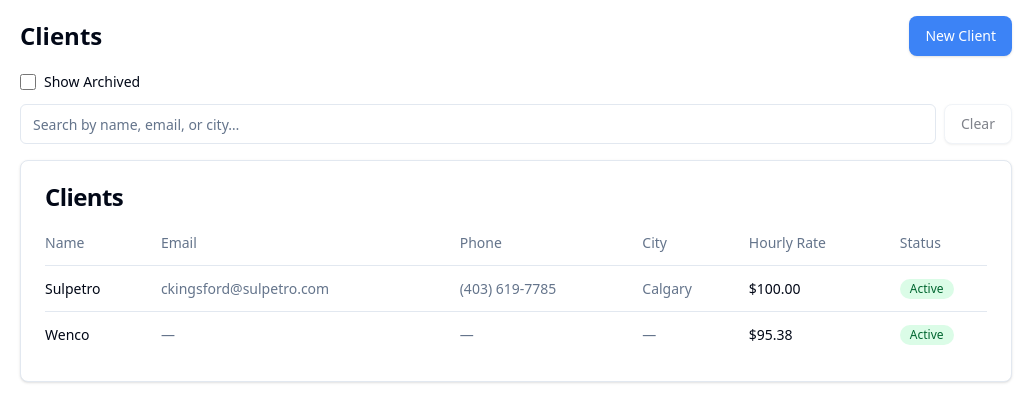
Test: Clients › shows an empty state when no clients match the search
Check: the text "Sulpetro" is shown, box 45,266 -> 161,312
Type "zzznomatchwhatever" into the field with placeholder "Search by name, email, or city…" at x=478, y=124, box 20,104 -> 936,144
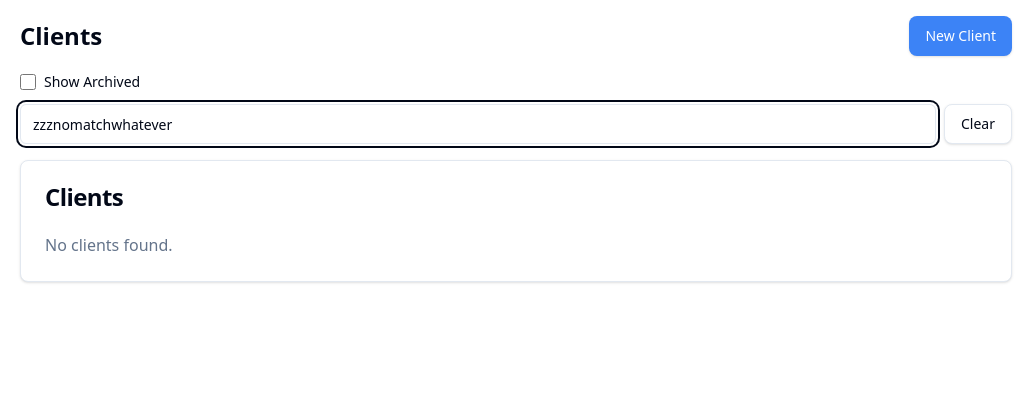
Check: the text "No clients found." is shown, box 45,234 -> 172,256
